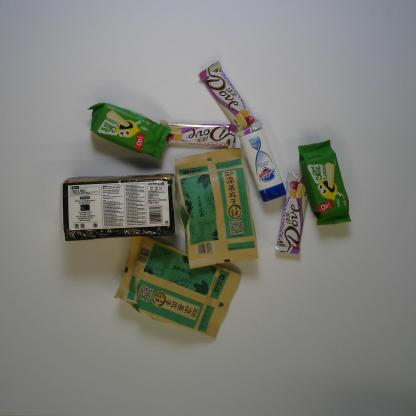Chocolate: (196, 59, 263, 140), (274, 169, 312, 256), (156, 118, 238, 150)
Dessert: (88, 100, 172, 163), (296, 138, 352, 228)
Dried Food: (112, 230, 244, 341), (171, 146, 278, 278)
Personal Hygiene: (240, 130, 288, 202)
Tissue: (63, 169, 178, 244)
